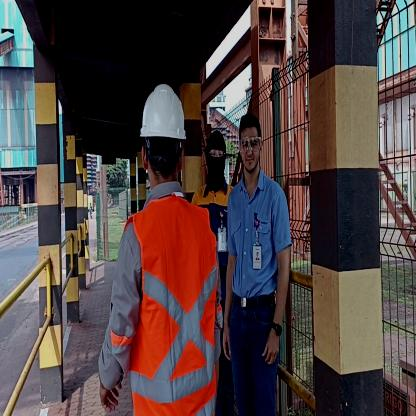Balaclava: (205, 134, 226, 187)
Capacete: (140, 82, 186, 141)
colete: (129, 205, 220, 416)
